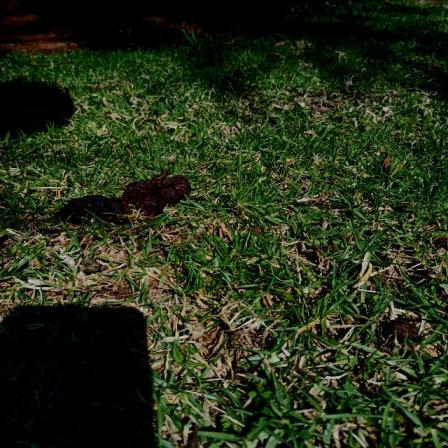dog-poop: (112, 162, 194, 222)
